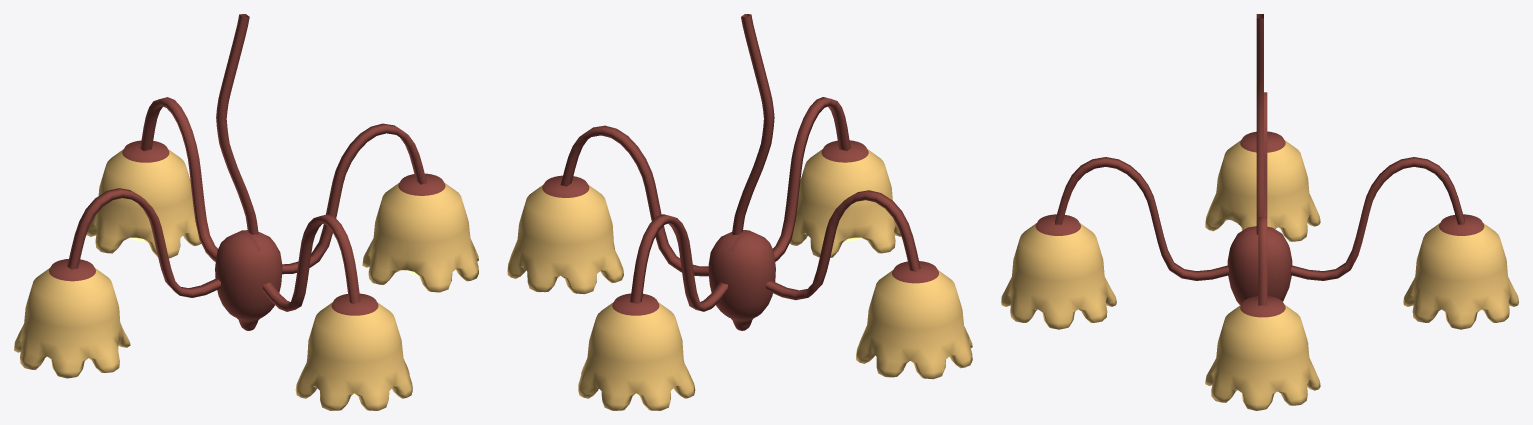
File: Lamp_CC.glb
The picture shows the model from 3 angles, left to right: view 1: azimuth 30°, elevation 25°; view 2: azimuth 150°, elevation 25°; view 3: azimuth 270°, elevation 25°; orthographic projection. The views are drawn at different scales.
Parts seen in each view (by area): view 1: Lamp_CC; view 2: Lamp_CC; view 3: Lamp_CC.
Part boxes in pixels (bbox=[...]): Lamp_CC: bbox=[14, 14, 478, 410]; Lamp_CC: bbox=[507, 14, 972, 410]; Lamp_CC: bbox=[1001, 14, 1518, 410].
Bounding box in the file's own units: 0.4635 × 0.3093 × 0.4764.
2 materials, 1 textured.
